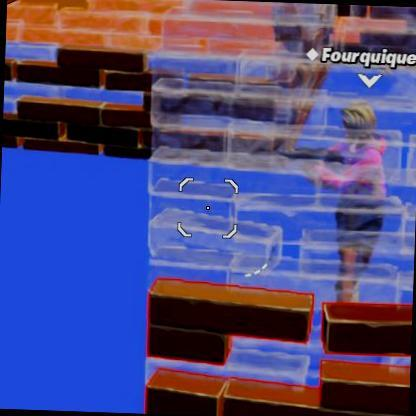person: (312, 96, 395, 331)
